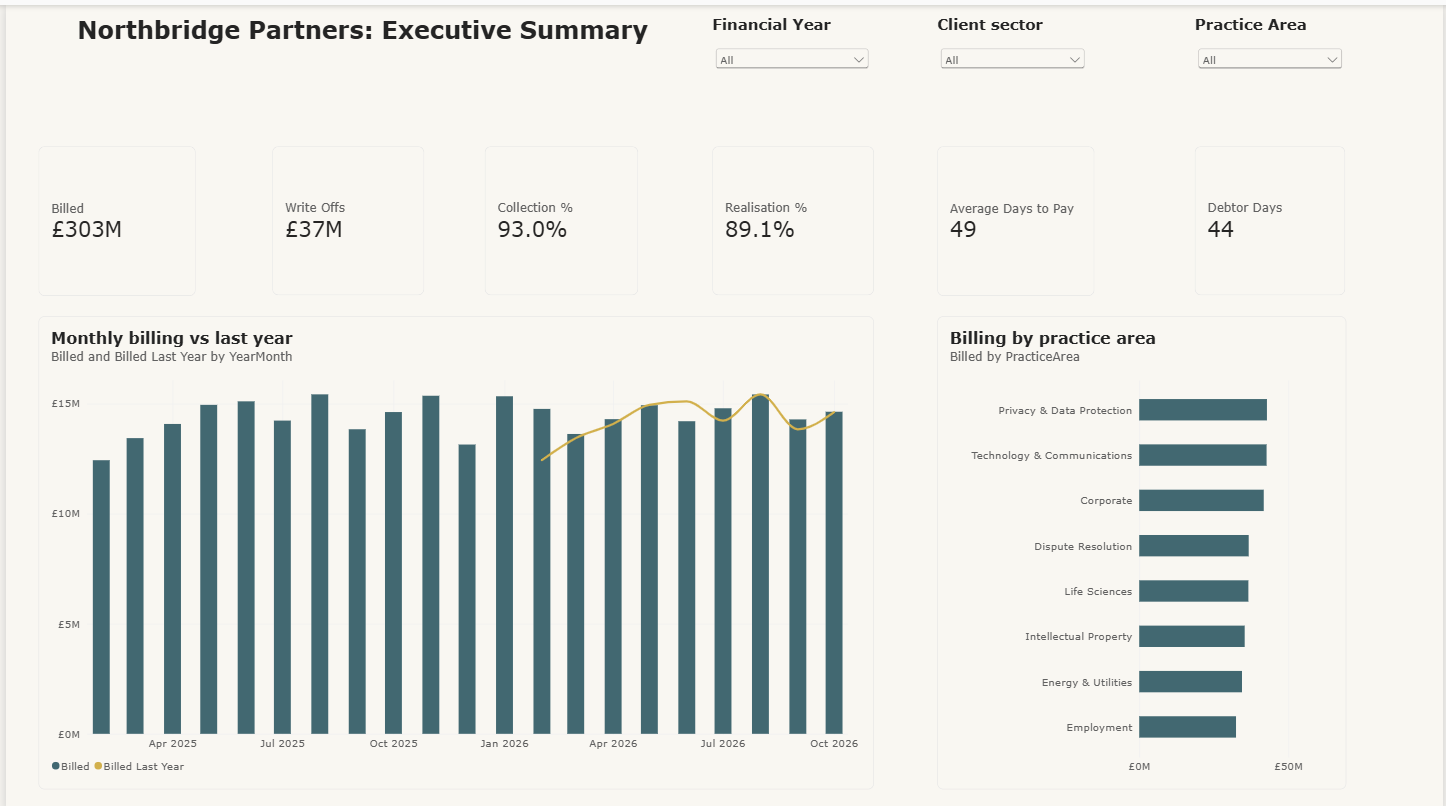

What the dashboard file says about the page in this screenshot:
{"tool":"powerbi","page":{"name":"Executive Summary","canvas":[1920,1080],"ordinal":0},"visuals":[{"type":"textbox","box":[44,14,866,98],"z":0},{"type":"lineClusteredColumnComboChart","title":"Monthly billing vs last year","fields":{"Category":["dim_date.YearMonth"],"Y":["_Measures.Billed"],"Y2":["_Measures.Billed Last Year"]},"box":[44,416,1116,632],"z":1000},{"type":"clusteredBarChart","title":"Billing by practice area","fields":{"Category":["dim_practice.PracticeArea"],"Y":["_Measures.Billed"]},"box":[1244,416,546,632],"z":2000},{"type":"slicer","title":"Financial Year","fields":{"Values":["dim_date.FinancialYear"]},"box":[944,14,214.1,152.3],"z":3000},{"type":"slicer","title":"Practice Area","fields":{"Values":["dim_practice.PracticeArea"]},"box":[1588,14,202,152],"z":4000},{"type":"slicer","title":"Client sector","fields":{"Values":["dim_client.Sector"]},"box":[1244,14,202,152],"z":5000},{"type":"cardVisual","fields":{"Data":["_Measures.Billed"]},"box":[44,188,210,200],"z":6000},{"type":"cardVisual","fields":{"Data":["_Measures.Write Offs"]},"box":[356,188,203.8,199.7],"z":7000},{"type":"cardVisual","fields":{"Data":["_Measures.Collection %"]},"box":[640,188,205.8,199.7],"z":8000},{"type":"cardVisual","fields":{"Data":["_Measures.Average Days to Pay"]},"box":[1244,188,210,200],"z":9000},{"type":"cardVisual","fields":{"Data":["_Measures.Debtor Days"]},"box":[1588,188,201.7,199.7],"z":10000},{"type":"cardVisual","fields":{"Data":["_Measures.Realisation %"]},"box":[944,188,216.1,199.7],"z":11000}]}

Visuals, with their boxes in screenshot pixels (x1, y1, x2, y2), scaled from the page's 1920x1080 canvas onto the 1446x806 screenshot:
textbox: x1=33, y1=10, x2=685, y2=84
"Monthly billing vs last year" lineClusteredColumnComboChart: x1=33, y1=310, x2=874, y2=782
"Billing by practice area" clusteredBarChart: x1=937, y1=310, x2=1348, y2=782
"Financial Year" slicer: x1=711, y1=10, x2=872, y2=124
"Practice Area" slicer: x1=1196, y1=10, x2=1348, y2=124
"Client sector" slicer: x1=937, y1=10, x2=1089, y2=124
cardVisual - _Measures.Billed: x1=33, y1=140, x2=191, y2=290
cardVisual - _Measures.Write Offs: x1=268, y1=140, x2=422, y2=289
cardVisual - _Measures.Collection %: x1=482, y1=140, x2=637, y2=289
cardVisual - _Measures.Average Days to Pay: x1=937, y1=140, x2=1095, y2=290
cardVisual - _Measures.Debtor Days: x1=1196, y1=140, x2=1348, y2=289
cardVisual - _Measures.Realisation %: x1=711, y1=140, x2=874, y2=289
